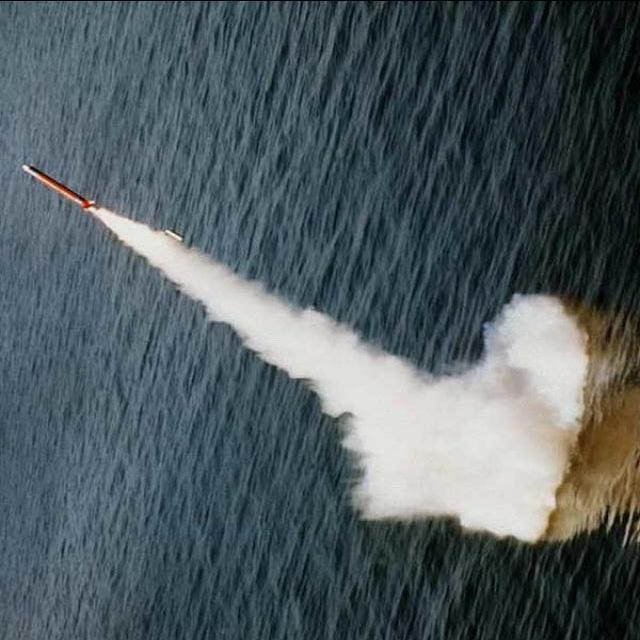missile: (20, 154, 93, 214)
